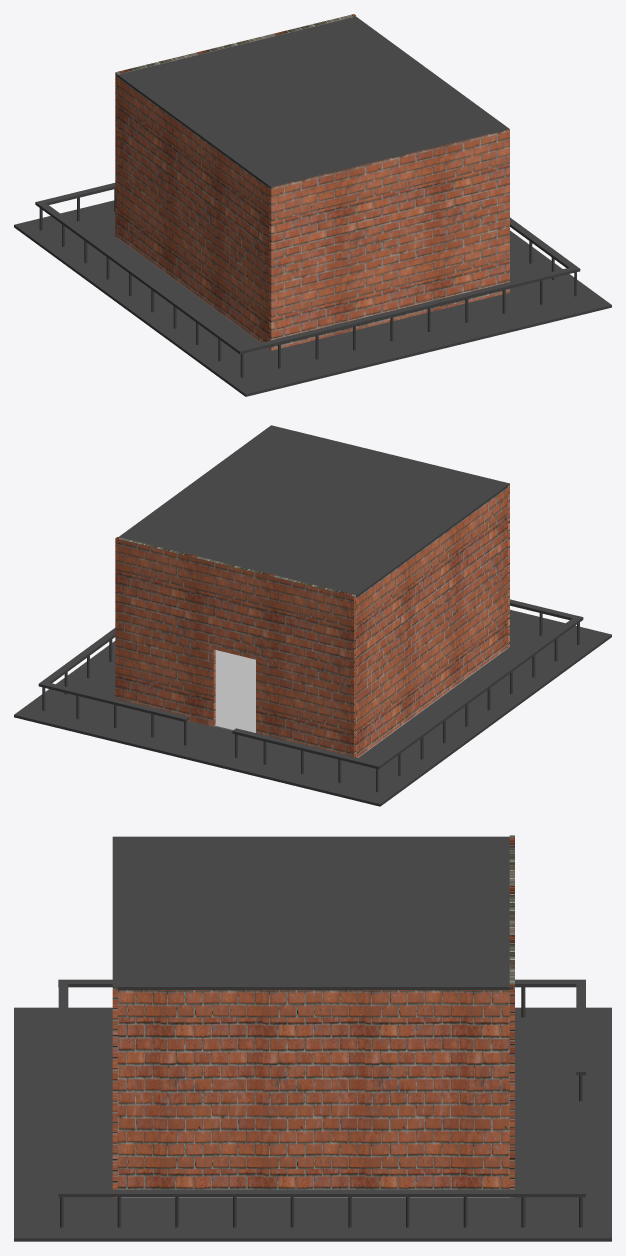
File: house_no_doors.fbx
The picture shows the model from 3 angles, top to bottom: view 1: azimuth 30°, elevation 25°; view 2: azimuth 150°, elevation 25°; view 3: azimuth 270°, elevation 25°; orthographic projection. The views are drawn at different scales.
Visible parts, largest first — view 1: Back_wall, roof, fllor_corridor, right_wall, back_bar, right_bar, Front_wall1, left_bar; view 2: Front_wall1, roof, fllor_corridor, right_wall, Floor, right_bar, front_left_bar, front_right_bar, left_bar; view 3: left_wall, roof, fllor_corridor, left_bar, back_bar, Front_wall1, Back_wall, right_bar, front_right_bar, front_left_bar.
Part boxes in pixels (x1,y1,x2,y2): Back_wall: (269,129,509,350); roof: (116,16,509,187); fllor_corridor: (14,200,611,396); right_wall: (117,77,269,347); back_bar: (239,267,573,352); right_bar: (35,200,246,354); Front_wall1: (115,14,355,237); left_bar: (510,217,580,272); Front_wall1: (115,537,355,757); roof: (119,425,509,597); fllor_corridor: (14,609,611,806); right_wall: (356,487,507,757); Floor: (214,648,507,757); right_bar: (372,615,583,769); front_left_bar: (45,682,189,722); front_right_bar: (232,728,376,767); left_bar: (38,628,115,687); left_wall: (117,990,509,1189); roof: (112,836,513,989); fllor_corridor: (14,1007,611,1241); left_bar: (58,1189,585,1197); back_bar: (58,981,68,1190); Front_wall1: (509,835,514,1197); Back_wall: (112,987,117,1197); right_bar: (58,979,585,987); front_right_bar: (576,983,585,1075); front_left_bar: (576,1101,585,1190).
Size of the model in its own units: 28.38 by 12.37 by 31.1.
